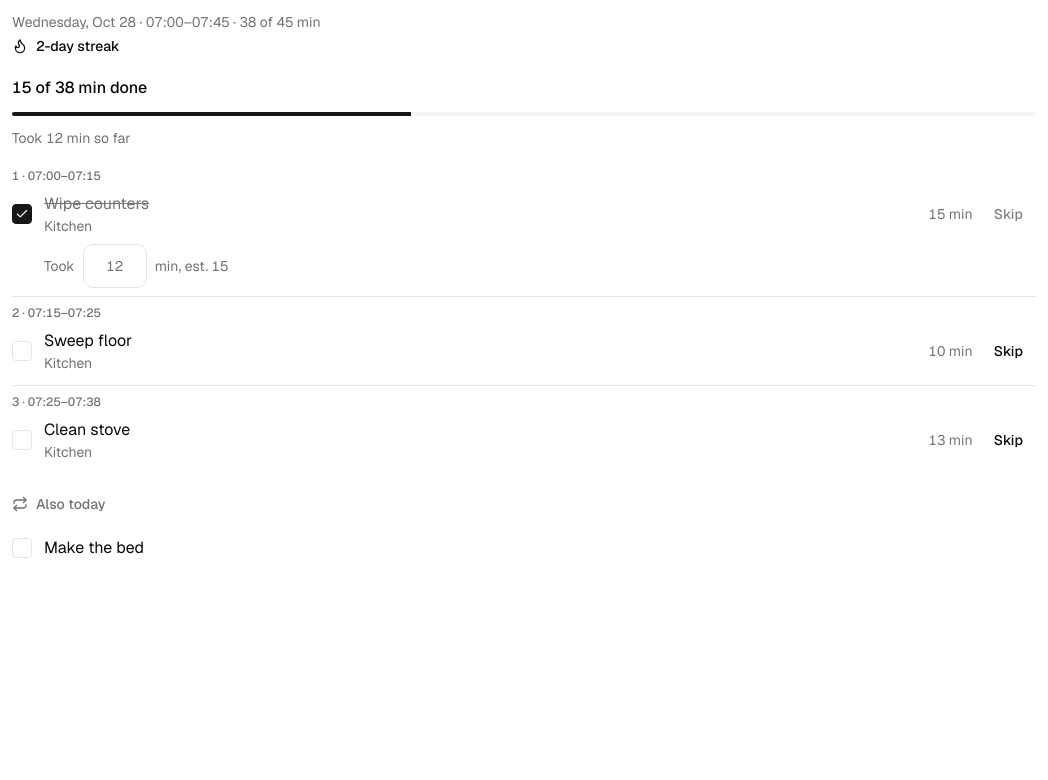
it: TodaySession › 009 AC3: clearing the field removes the minutes
Expected: the text "Took 12 min so far" is shown, [12,129,130,147]
Clear the field named "Minutes taken for Wipe counters": x=115, y=266 [83,244,147,288]
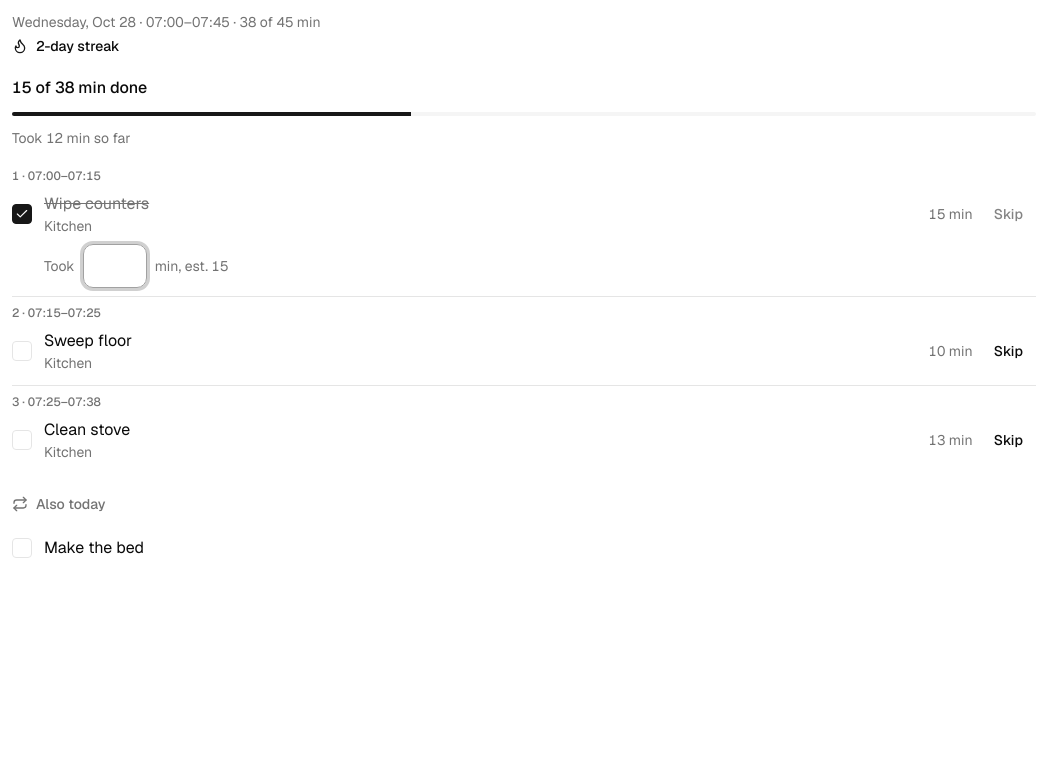
Press Tab
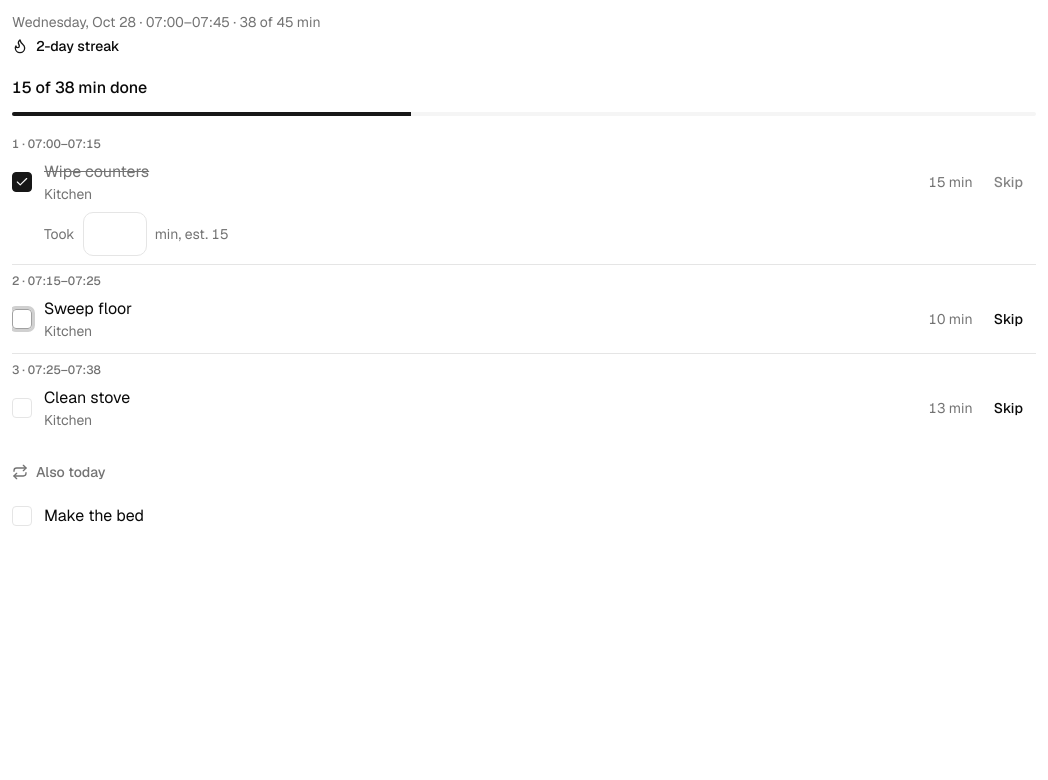
Now the text "so far" is gone
